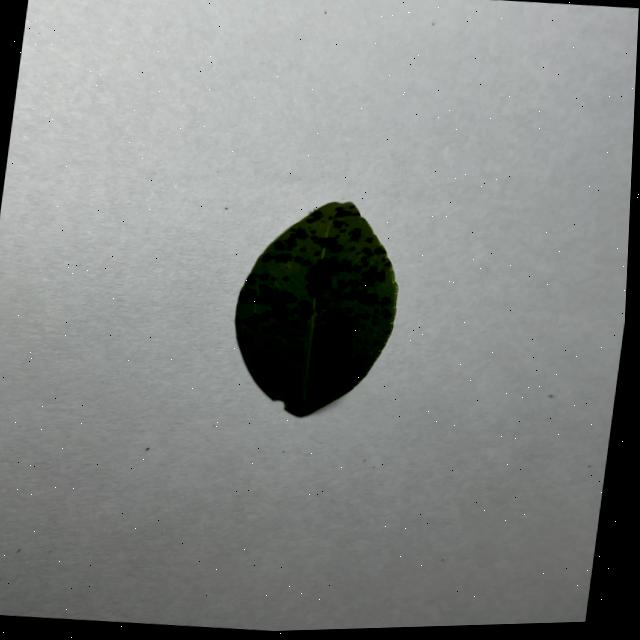sooty_mold: (234, 201, 396, 416)
